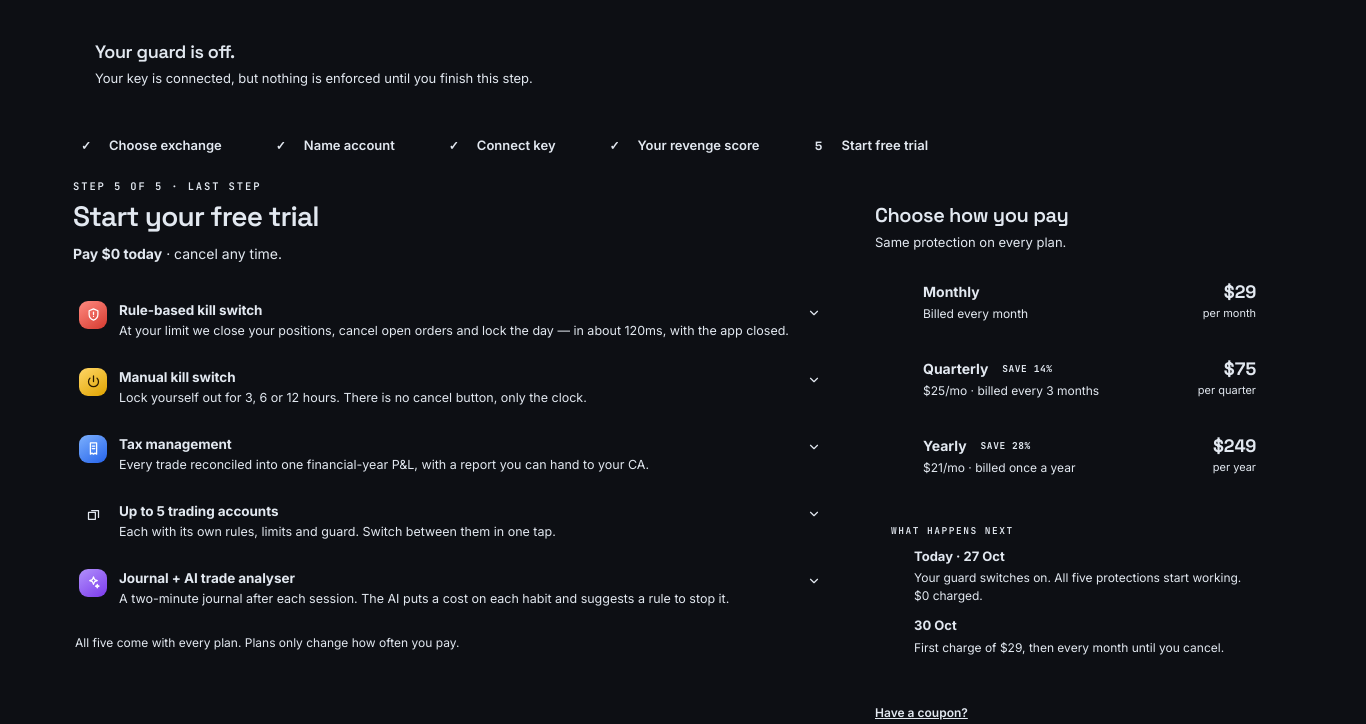
Test: billing step › claims nothing until the code has been checked
Click the button "Have a coupon?": (921, 712) [875, 704, 968, 722]
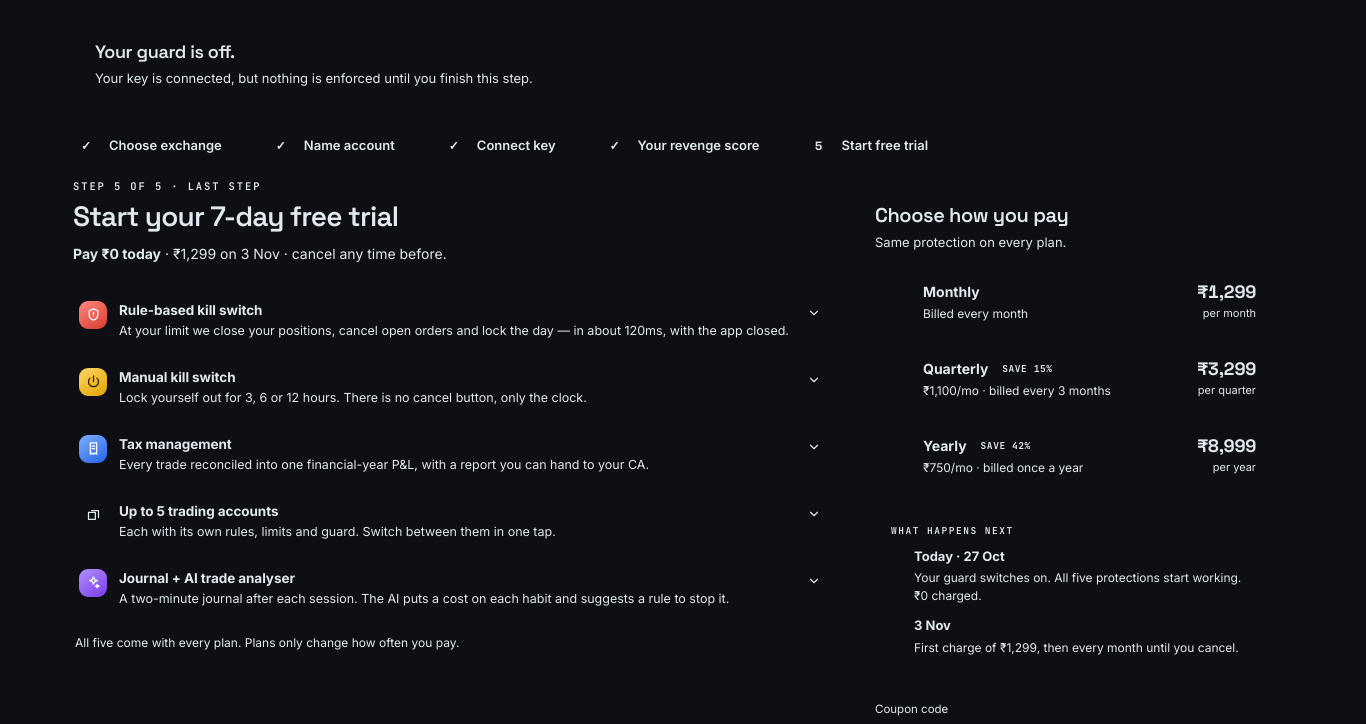
Check: the text "First charge of ₹1,299, then every month until you cancel." is shown, box [914, 638, 1239, 656]
